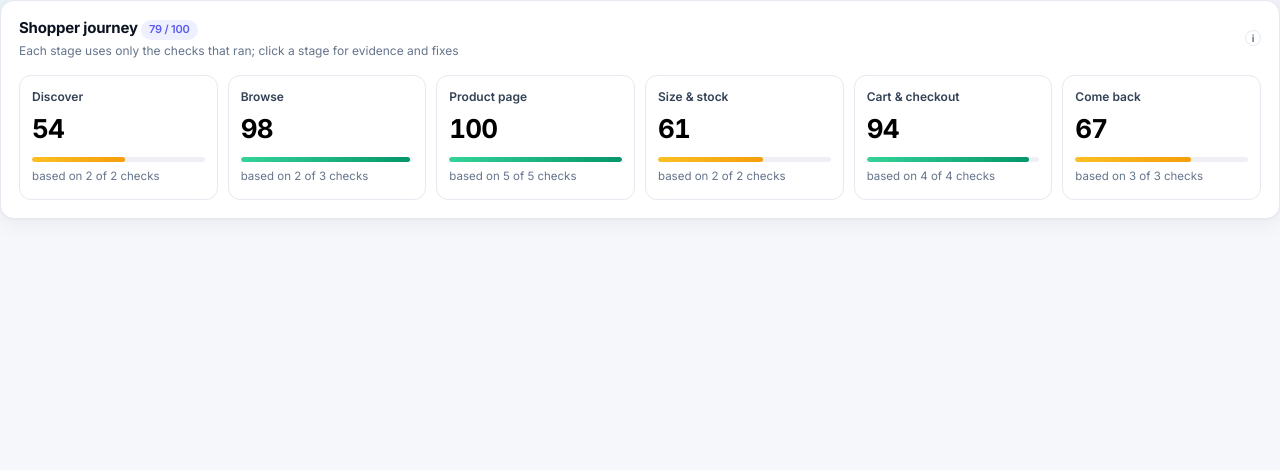
it: JourneyScorecard › shows coverage and robots-blocked checks as not checked
Expected: the text "based on 2 of 3 checks" is shown, [241,169,368,183]
Click the button "Browse 98 based on 2 of 3 checks" at (327, 137), box [228,75,426,200]
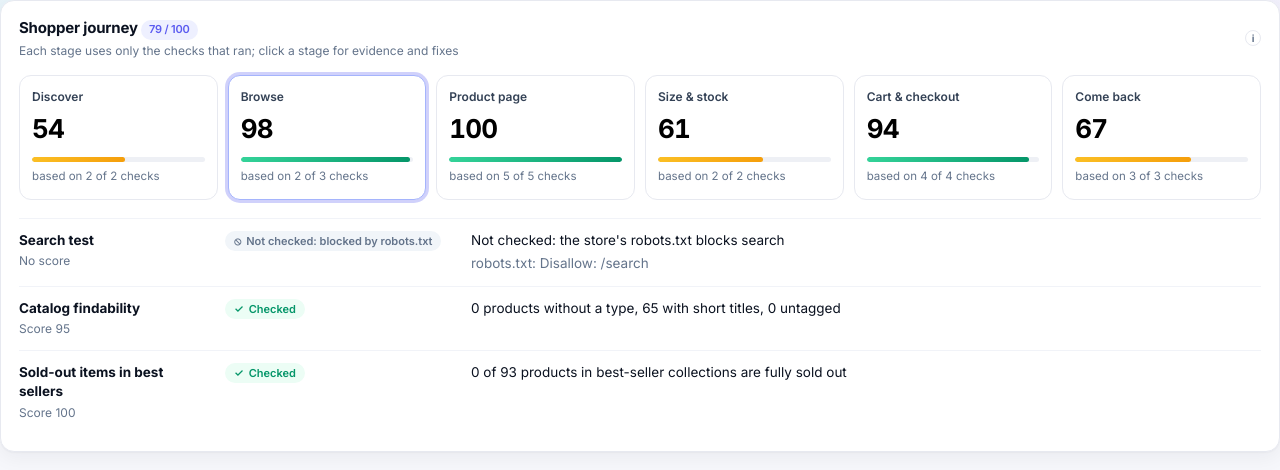
Expected: the text "Not checked: blocked by robots.txt" is shown, [246,234,432,248]
Expected: the text "robots.txt: Disallow: /search" is shown, [471,255,649,271]
